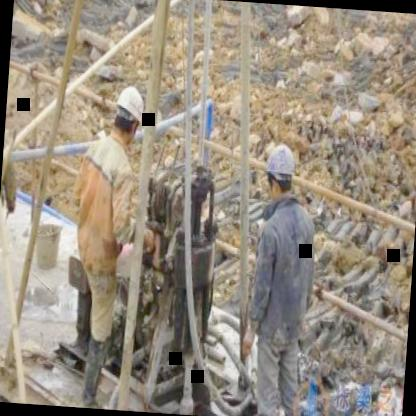helmet: (112, 83, 146, 149), (263, 142, 297, 200)
